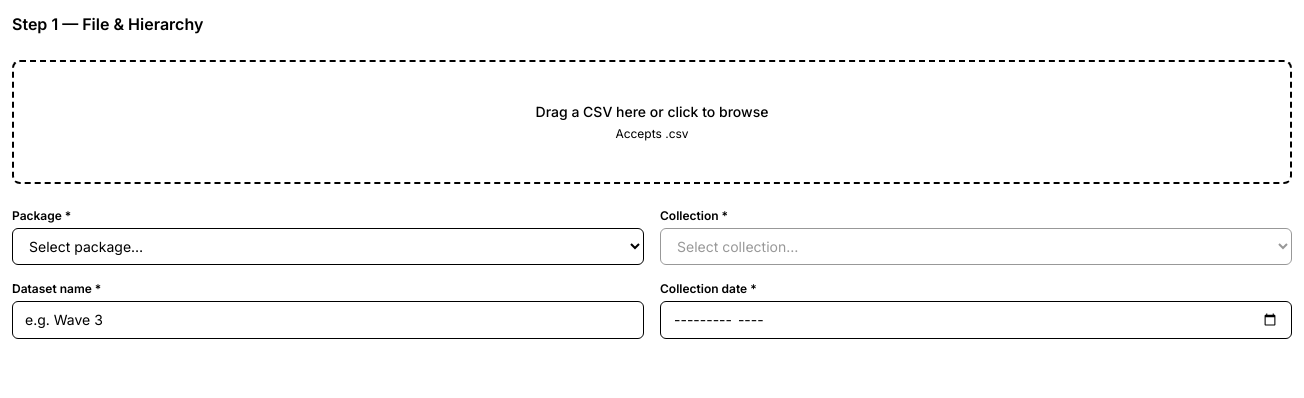
shows new package form when '+ New package…' is selected
Select "+ New package…" in the dropdown labelled "Package *" at {"x": 328, "y": 246}, box [12, 228, 644, 265]
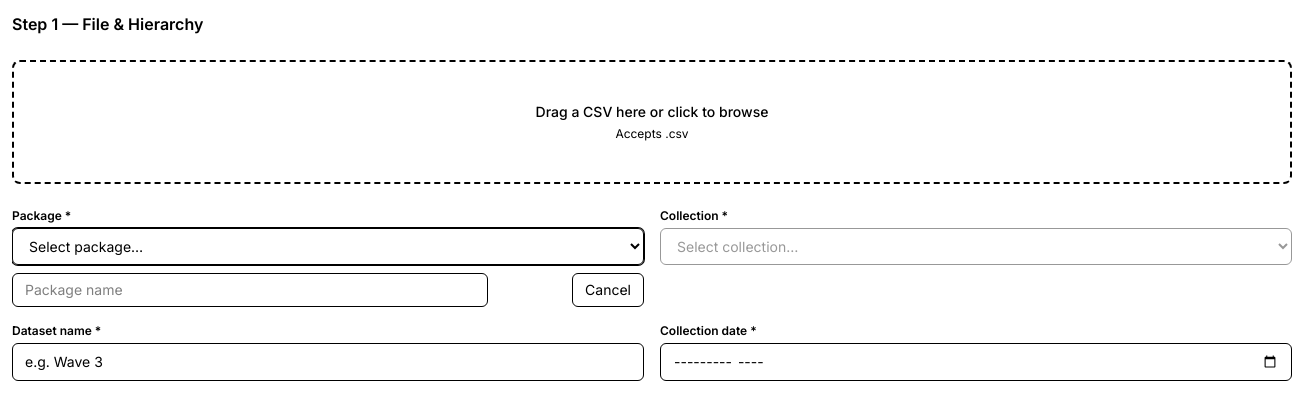
Expected: the field with placeholder "Package name" is shown, [12, 273, 488, 307]
